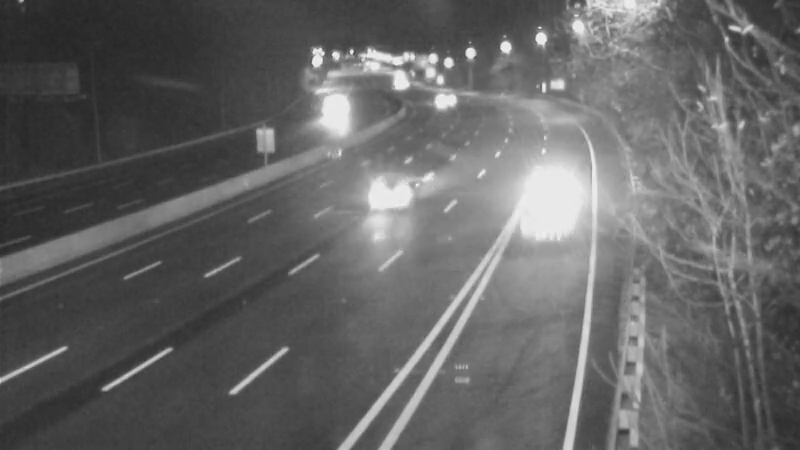vehicle: (354, 151, 434, 231), (514, 156, 594, 236), (418, 72, 468, 122), (305, 89, 355, 139)
